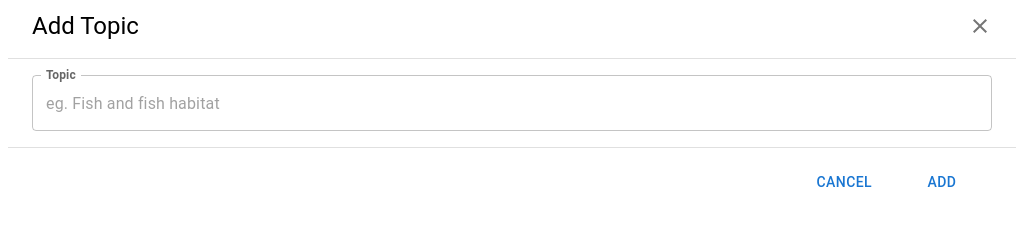
Scenario: <TopicModal /> › validates the form and shows an error message for required fields
Click the button "Add".
click(942, 183)  # box [892, 164, 992, 201]
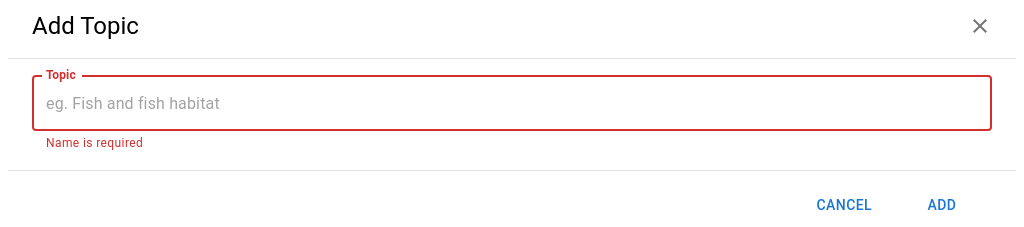
Now the text "Name is required" is shown, box [46, 136, 143, 150]
